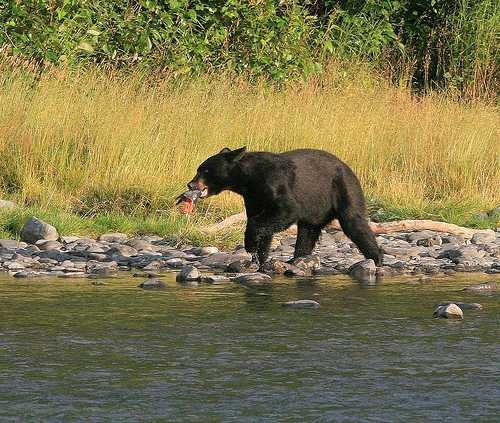bear: (186, 134, 314, 262)
